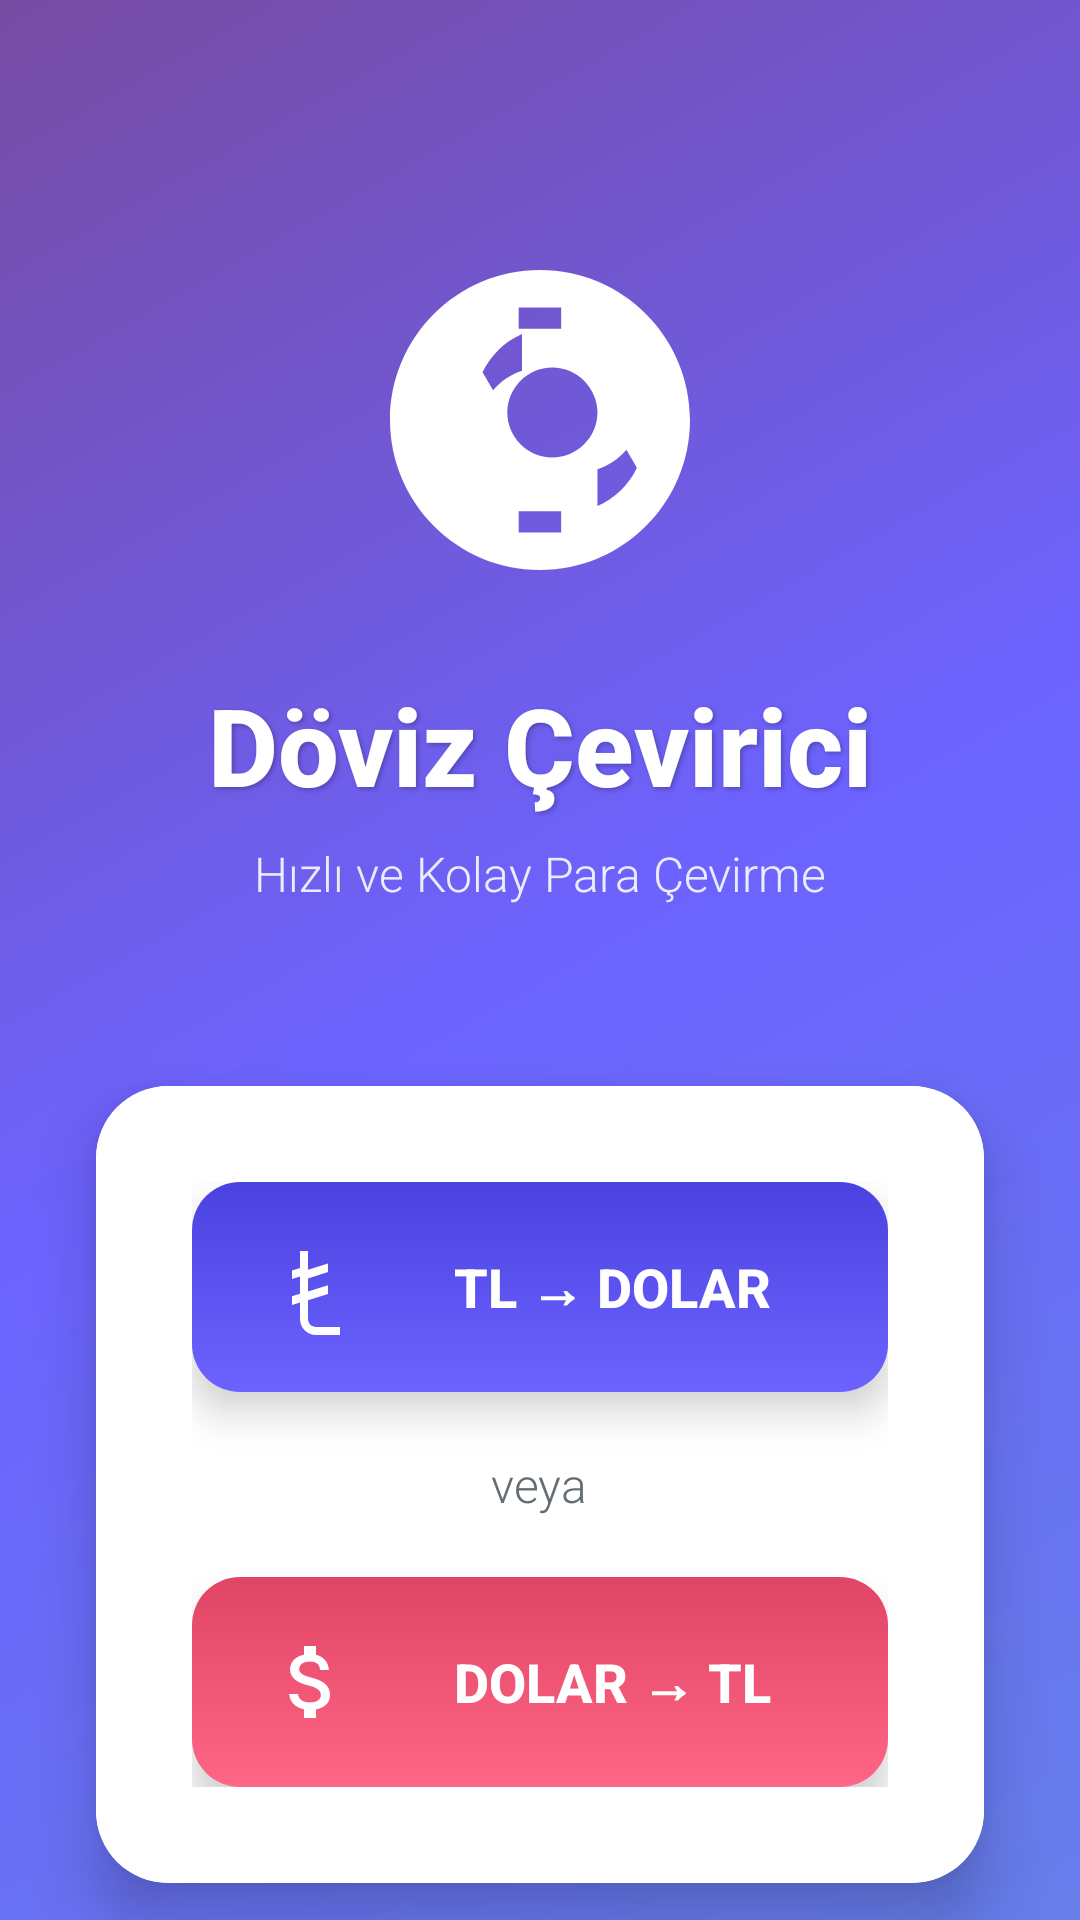

Icons on this 1080px x 1920px Android screen, each with the point to tap as [x,y]:
currency exchange: [555,435]
